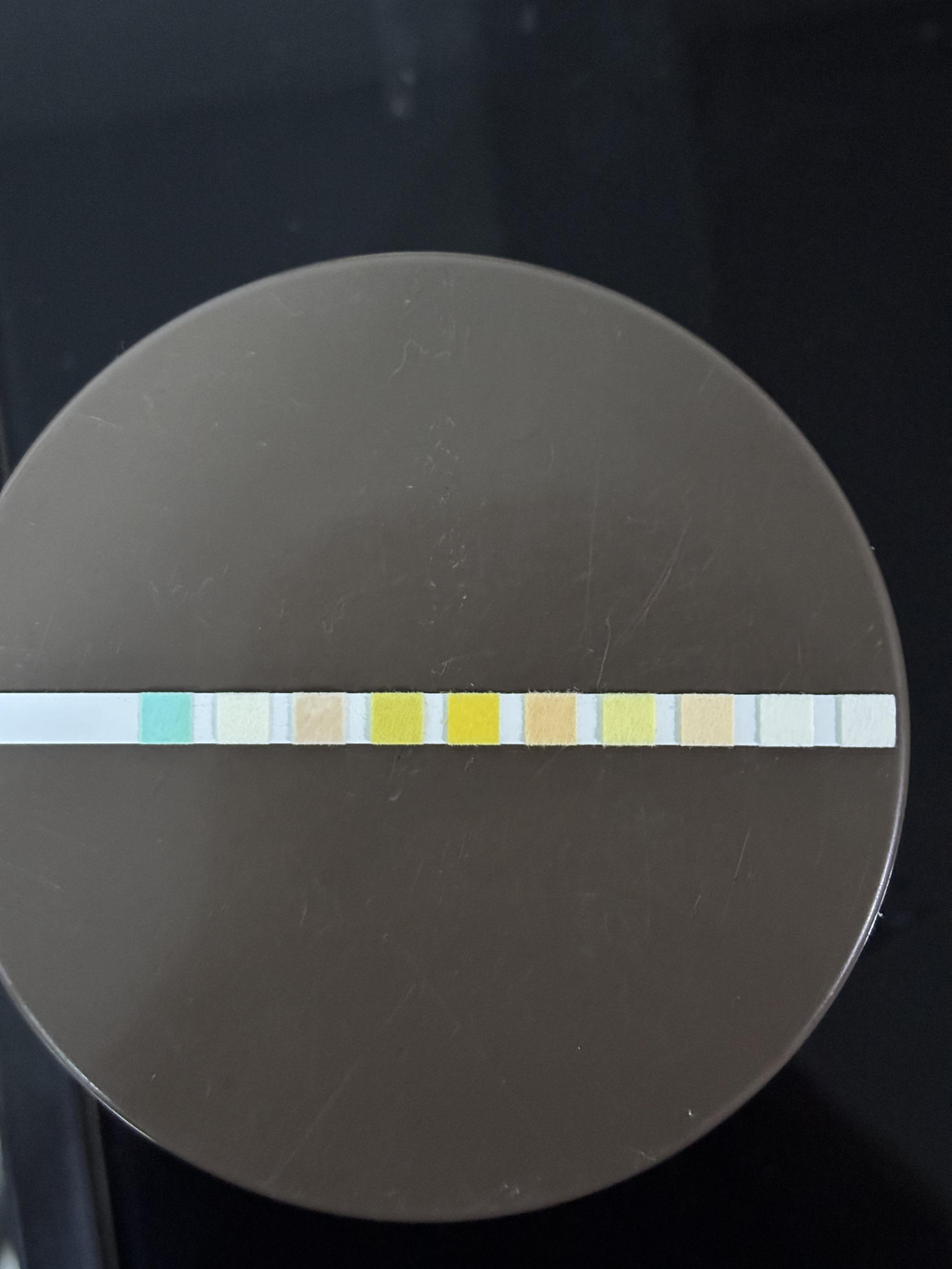Bilirubin: (220, 693, 267, 742)
Blood: (452, 696, 499, 745)
Glucose: (143, 693, 191, 742)
Ketone: (295, 694, 342, 743)
Leukocytes: (844, 695, 891, 744)
Nitrite: (763, 695, 810, 744)
Protein: (606, 695, 654, 744)
SpGravity: (375, 695, 422, 744)
Urobilinogen: (684, 696, 731, 745)
pH: (528, 695, 575, 744)
strip: (6, 692, 894, 747)
